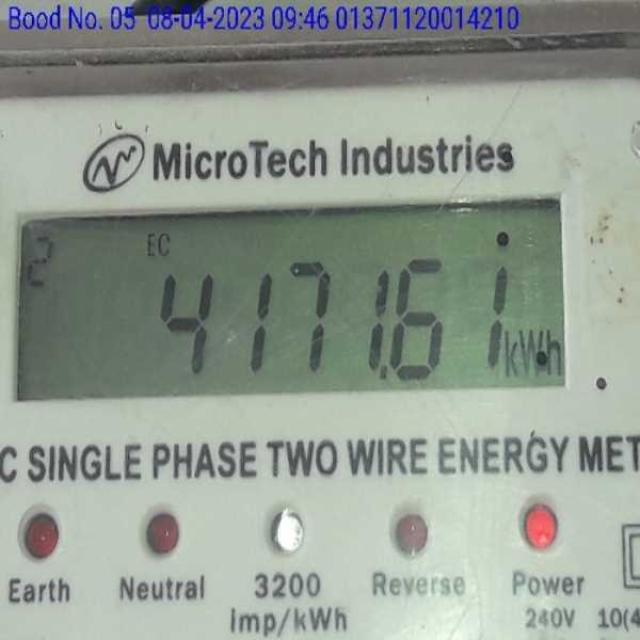1: (250, 268, 278, 373), (484, 261, 510, 374), (372, 264, 391, 378)
4: (157, 268, 221, 372)
6: (391, 257, 449, 383)
7: (284, 261, 339, 371)
Digital meter: (25, 218, 567, 394)
point: (379, 365, 396, 383)
